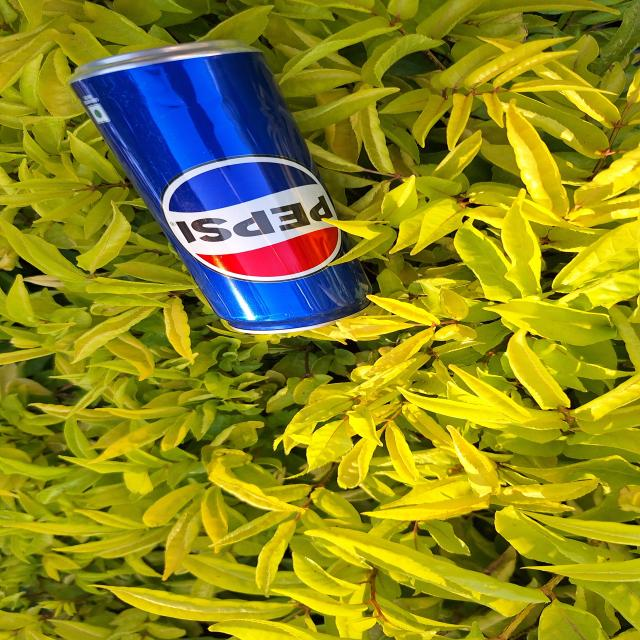Pepsi: (74, 45, 373, 325)
